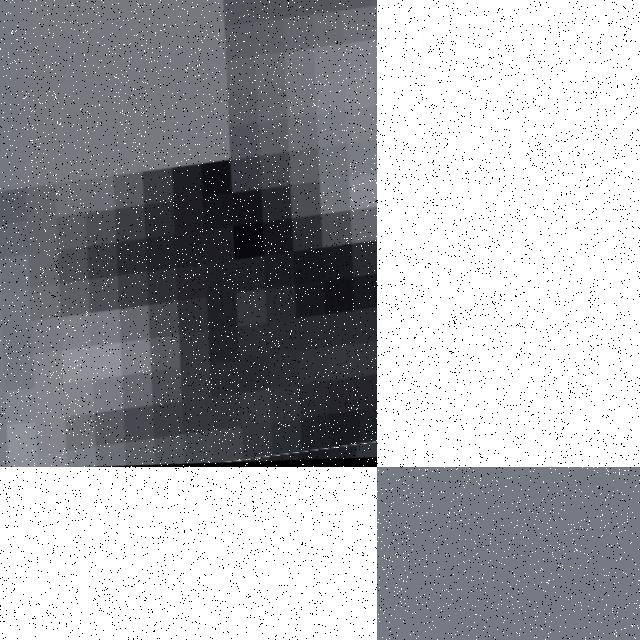0: (0, 0, 377, 467)
drone: (0, 467, 377, 640)
